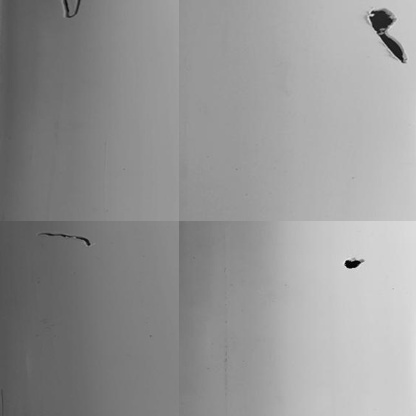fengxi: (39, 228, 94, 249), (58, 1, 85, 16)
kongdong: (363, 6, 408, 67), (343, 255, 365, 271)
